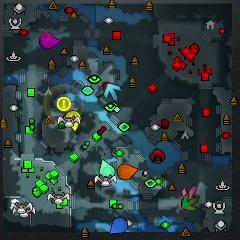p1: (109, 217, 128, 234)
p2: (99, 159, 115, 178)
p3: (39, 32, 61, 49)
p4: (65, 111, 80, 130)
p5: (118, 164, 138, 180)
x1: (182, 186, 199, 198)
x3: (104, 83, 121, 100)
x4: (181, 195, 199, 212)
